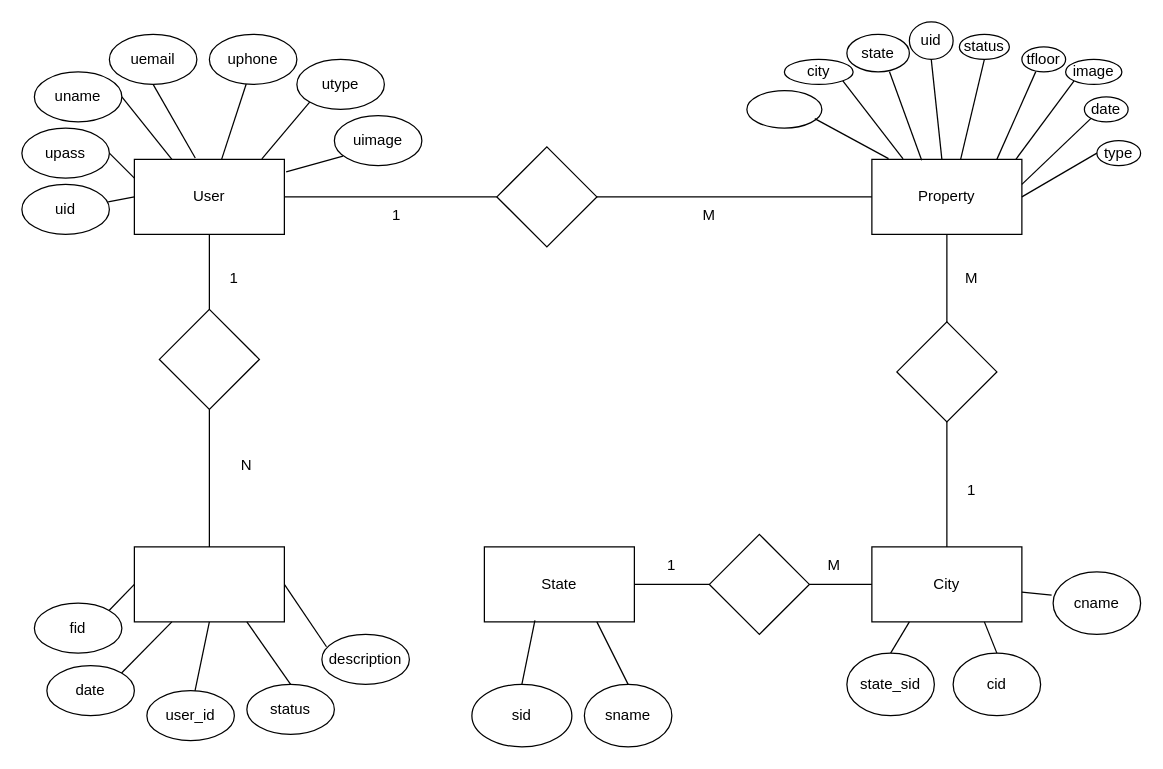
The diagram is 1163 pixels wide and 769 high, and some of its shapes have lost their labels. The shapes that lost their labels are listed below. From the top down, each one's centre as x and y in pixels, then its label:
pixel 784 108: pid
pixel 546 196: Uses
pixel 208 358: Gives
pixel 946 371: Location
pixel 208 584: Feedback
pixel 758 583: has
